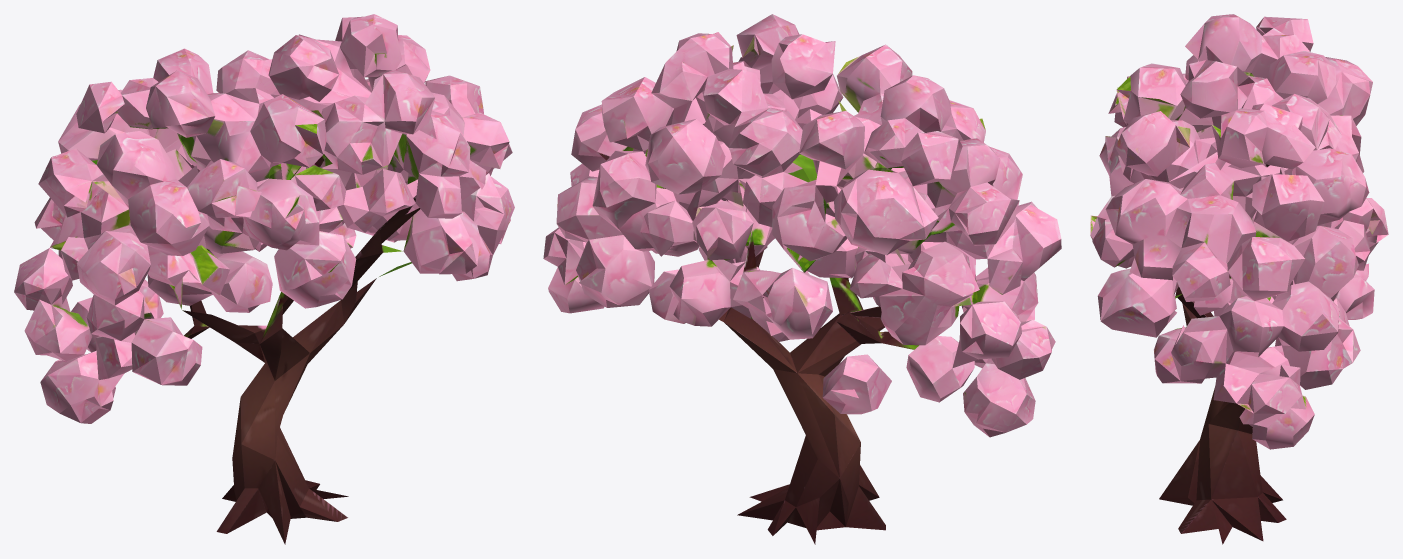
The model's file is tree-blossom.glb.
3 renders of one model, left to right at view 1: azimuth 30°, elevation 25°; view 2: azimuth 150°, elevation 25°; view 3: azimuth 270°, elevation 25°, orthographic. The views are drawn at different scales.
Size of the model in its own units: 1.9 by 1.75 by 1.03.
Materials: 1 (1 with a texture image).
